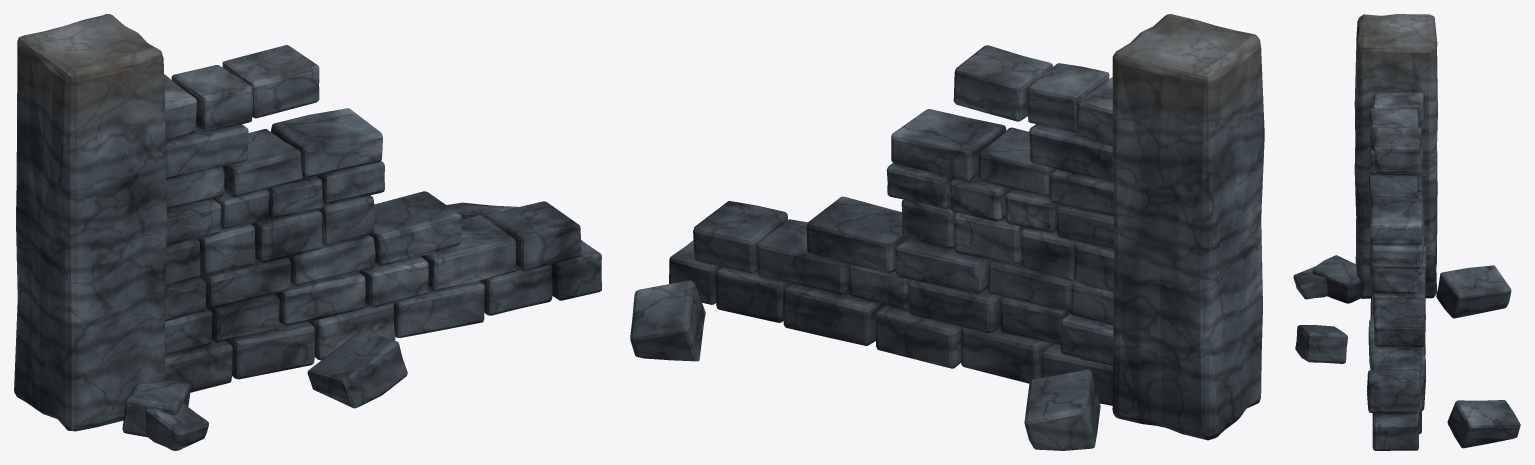
File: snow_ruin_a.glb
3 views of the same model, side by side, from view 1: azimuth 30°, elevation 25°; view 2: azimuth 150°, elevation 25°; view 3: azimuth 270°, elevation 25° (orthographic). The views are drawn at different scales.
Visible parts, largest first — view 1: snow_ruin_a; view 2: snow_ruin_a; view 3: snow_ruin_a.
Boxes of the visible parts, box(x1,y1,x2,y2) form: snow_ruin_a: box(14, 14, 601, 450); snow_ruin_a: box(630, 14, 1264, 450); snow_ruin_a: box(1293, 14, 1520, 450).
Size of the model in its own units: 4.19 by 2.64 by 2.13.
Materials: 1 (1 with a texture image).
